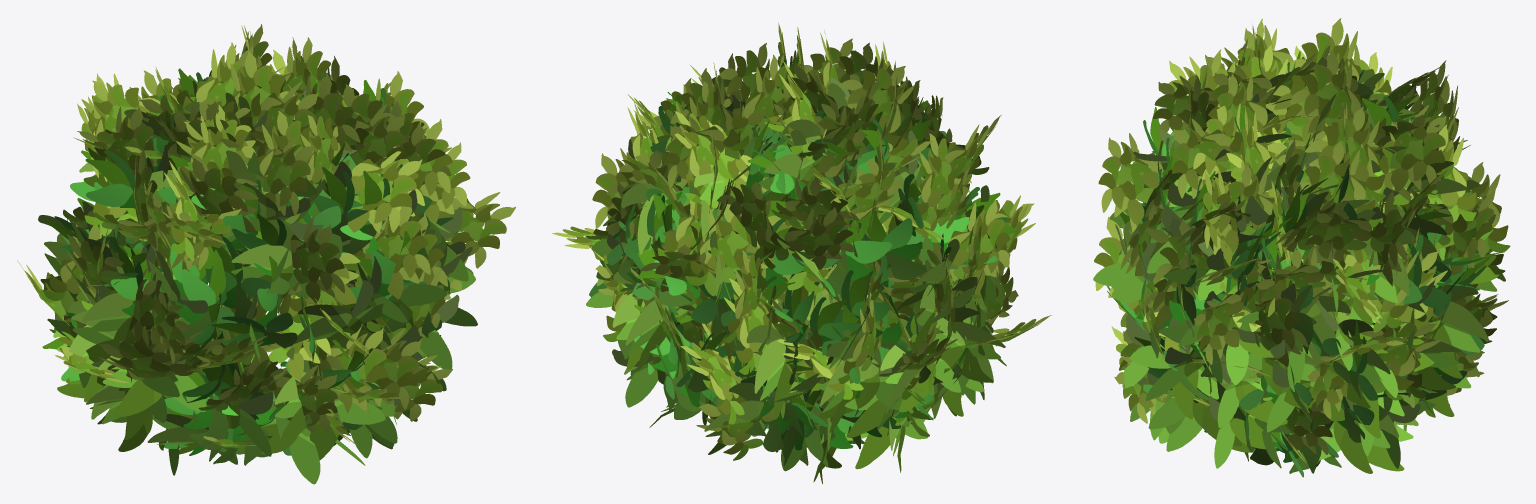
File: bush1.fbx
3 views of the same model, side by side, from view 1: azimuth 30°, elevation 25°; view 2: azimuth 150°, elevation 25°; view 3: azimuth 270°, elevation 25° (orthographic).
Parts seen in each view (by area): view 1: transp; view 2: transp; view 3: transp.
Part boxes in pixels (x1,y1,x2,y2): transp: [17, 24, 515, 484]; transp: [552, 23, 1051, 483]; transp: [1093, 18, 1510, 477].
Bounding box in the file's own units: 421 × 386 × 360.
